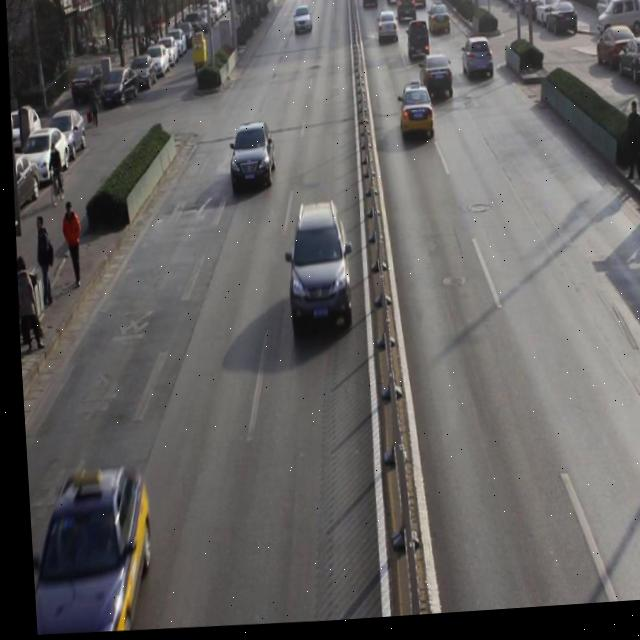car: (22, 467, 147, 636), (278, 201, 351, 340), (225, 123, 275, 201), (395, 87, 433, 149), (417, 57, 454, 110), (459, 42, 493, 92), (426, 6, 452, 41), (374, 16, 397, 50)
truck: (405, 22, 430, 67)
